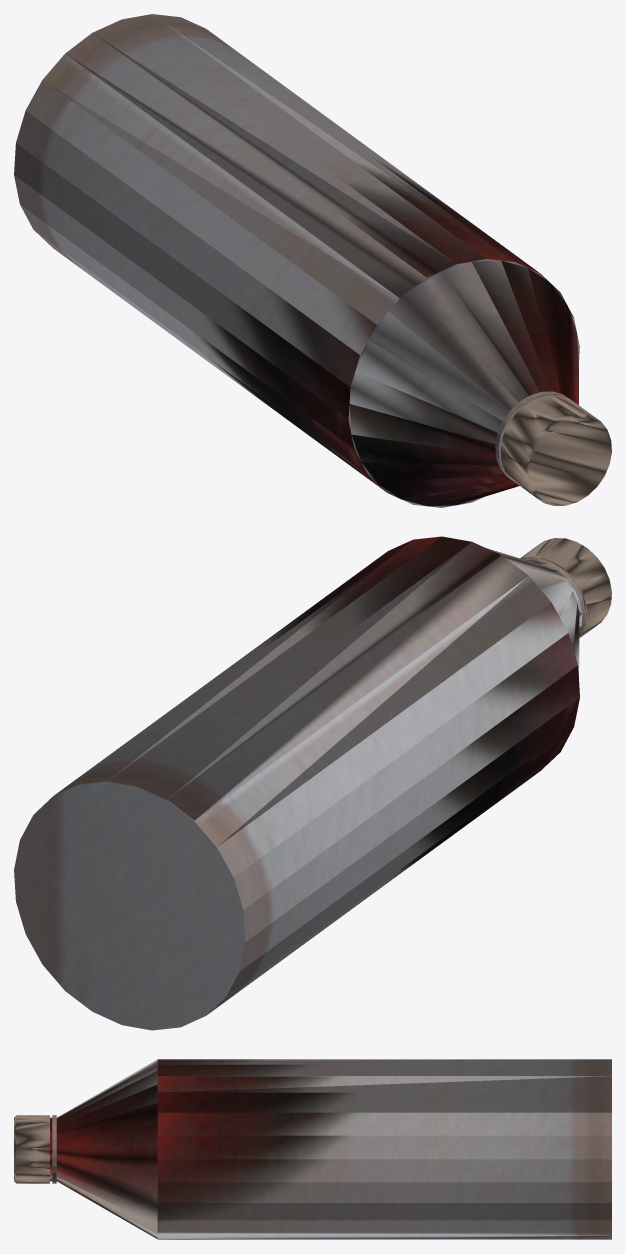
The model's file is model_align.obj.
3 renders of one model, top to bottom at view 1: azimuth 30°, elevation 25°; view 2: azimuth 150°, elevation 25°; view 3: azimuth 270°, elevation 25°, orthographic. The views are drawn at different scales.
Size of the model in its own units: 0.0474 by 0.0474 by 0.1562.
